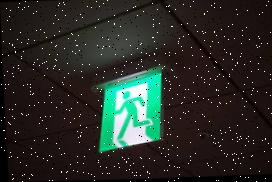emergency_exit: (94, 65, 163, 154)
